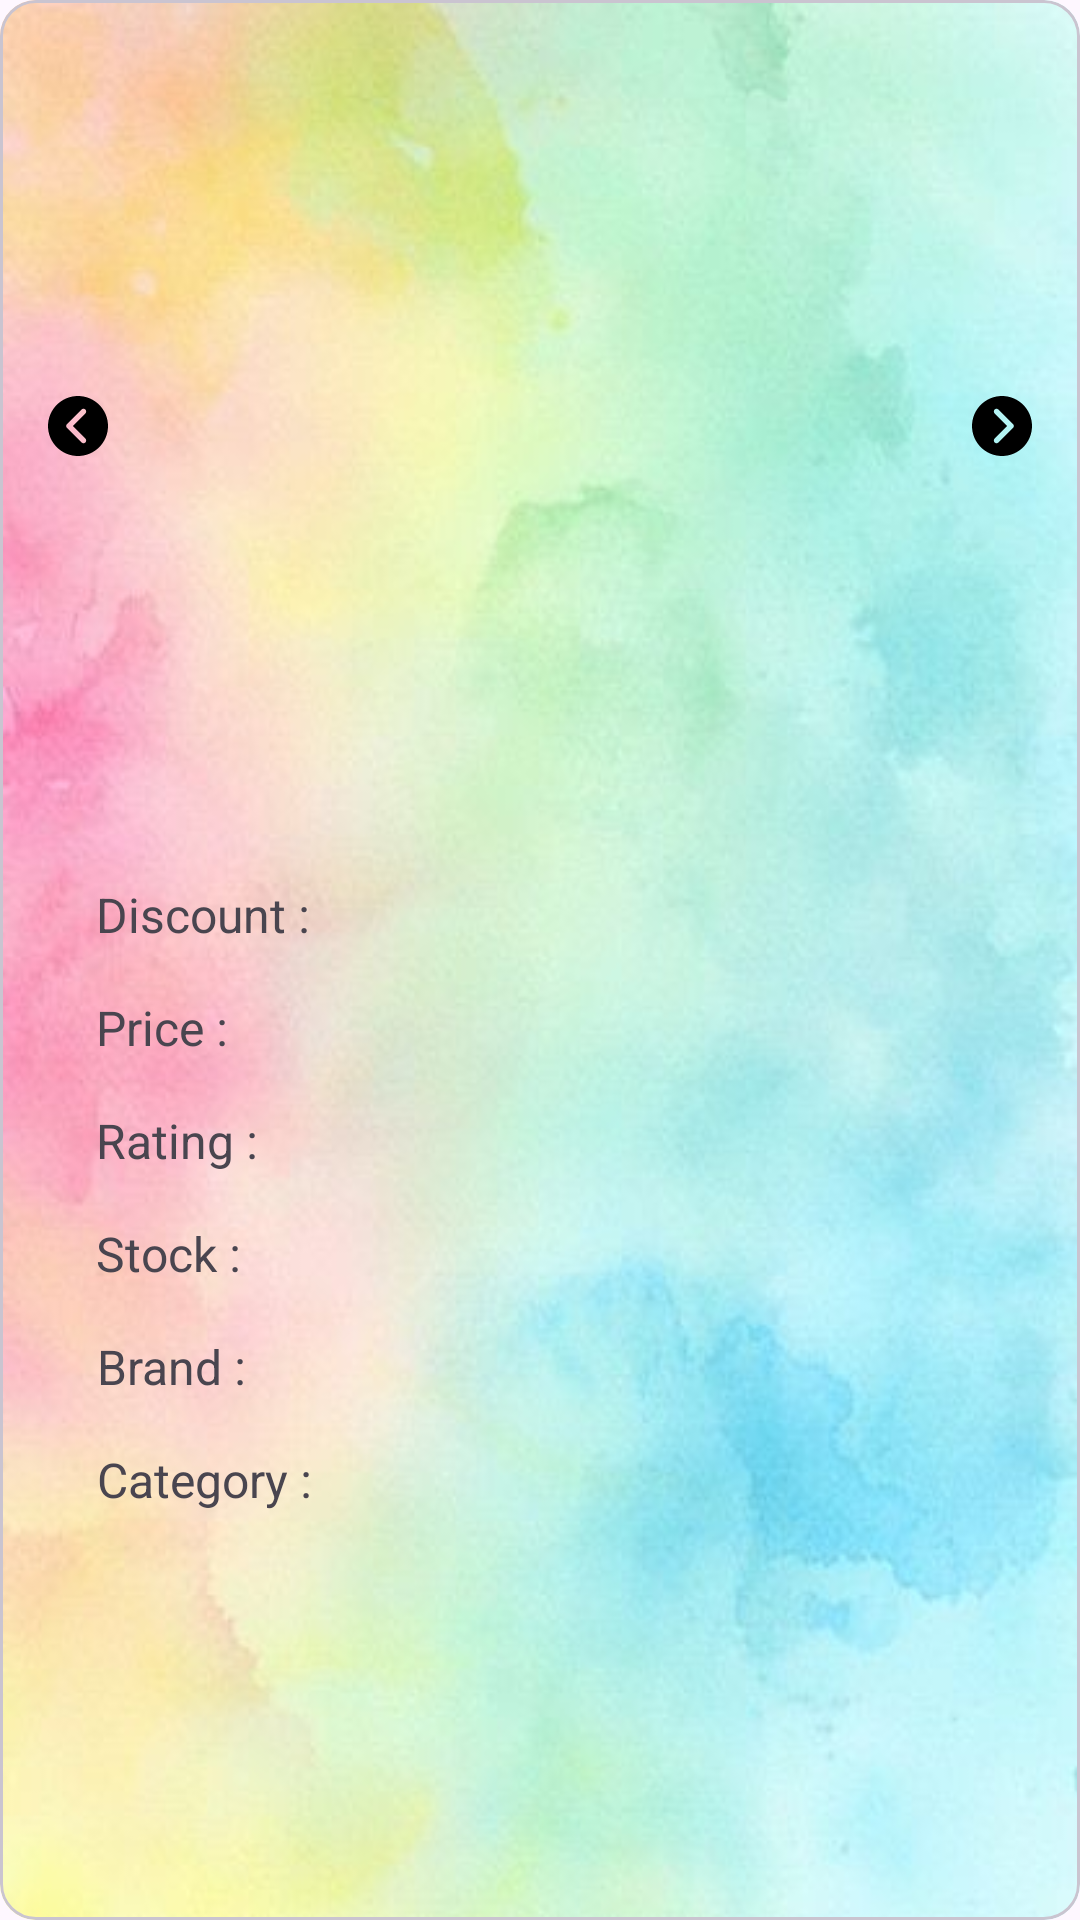

Icon click points for this 1080w x 1920h phone screenshot, format point (x, y):
left arrow: point (78, 426)
right arrow: point (1002, 426)
